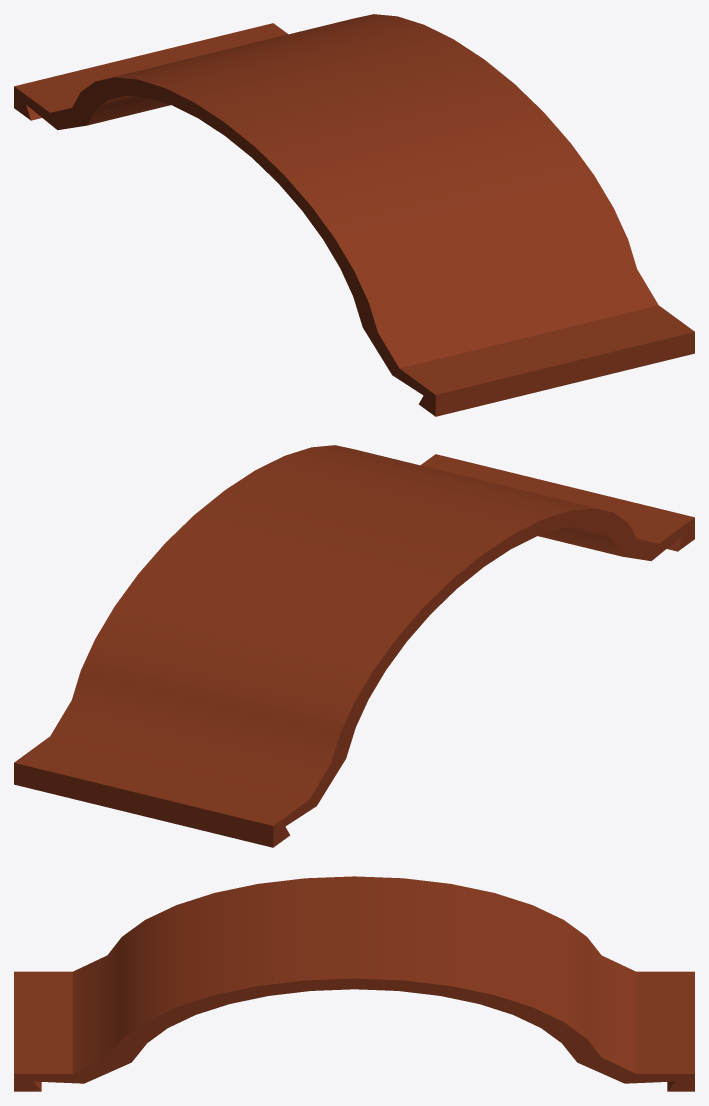
Rendered from Bridge.fbx.
The picture shows the model from 3 angles, top to bottom: view 1: azimuth 30°, elevation 25°; view 2: azimuth 150°, elevation 25°; view 3: azimuth 270°, elevation 25°; orthographic projection. The views are drawn at different scales.
Parts seen in each view (by area): view 1: Bridge; view 2: Bridge; view 3: Bridge.
Part boxes in pixels (left/top/right/bottom): Bridge: left=14, top=14, right=694, bottom=416; Bridge: left=14, top=445, right=694, bottom=847; Bridge: left=14, top=876, right=694, bottom=1091.
Bounding box in the file's own units: 548 × 283 × 1543.
